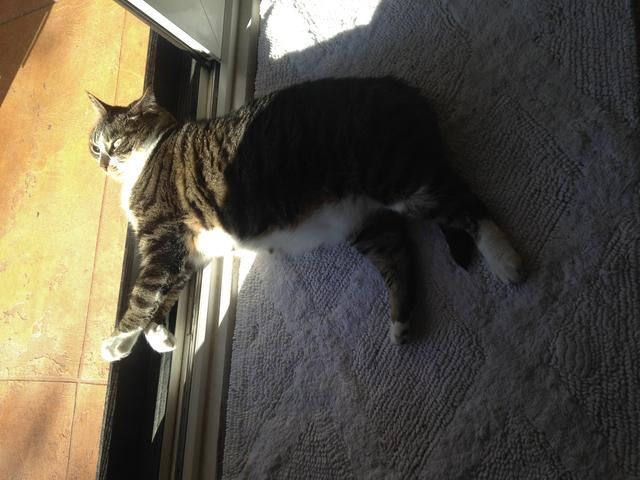playdoh: (83, 75, 525, 362)
